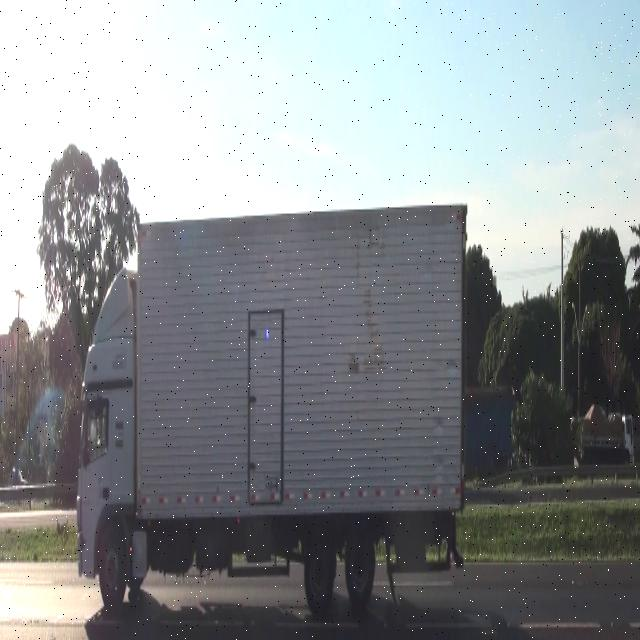-axle: (302, 527, 334, 616), (344, 527, 376, 614), (96, 533, 120, 611)
